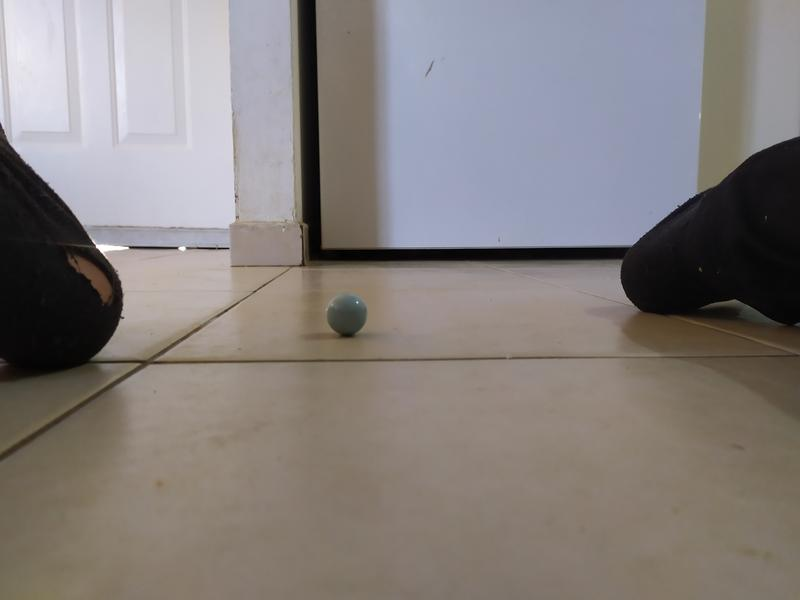Warning: (324, 291, 369, 338)
